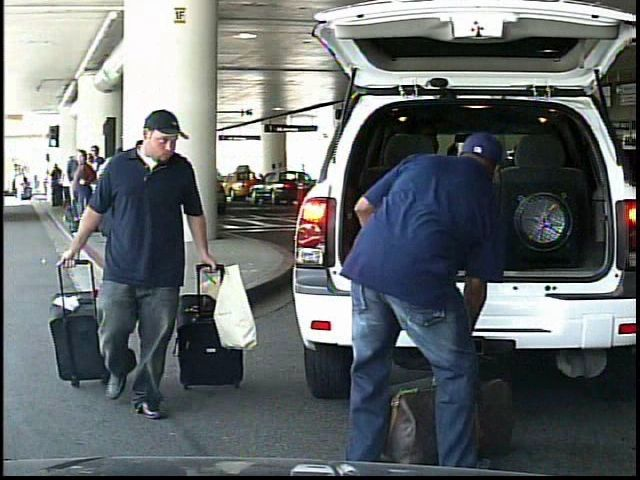person: (332, 111, 518, 476), (76, 110, 232, 428), (273, 162, 284, 195), (14, 170, 25, 201)
